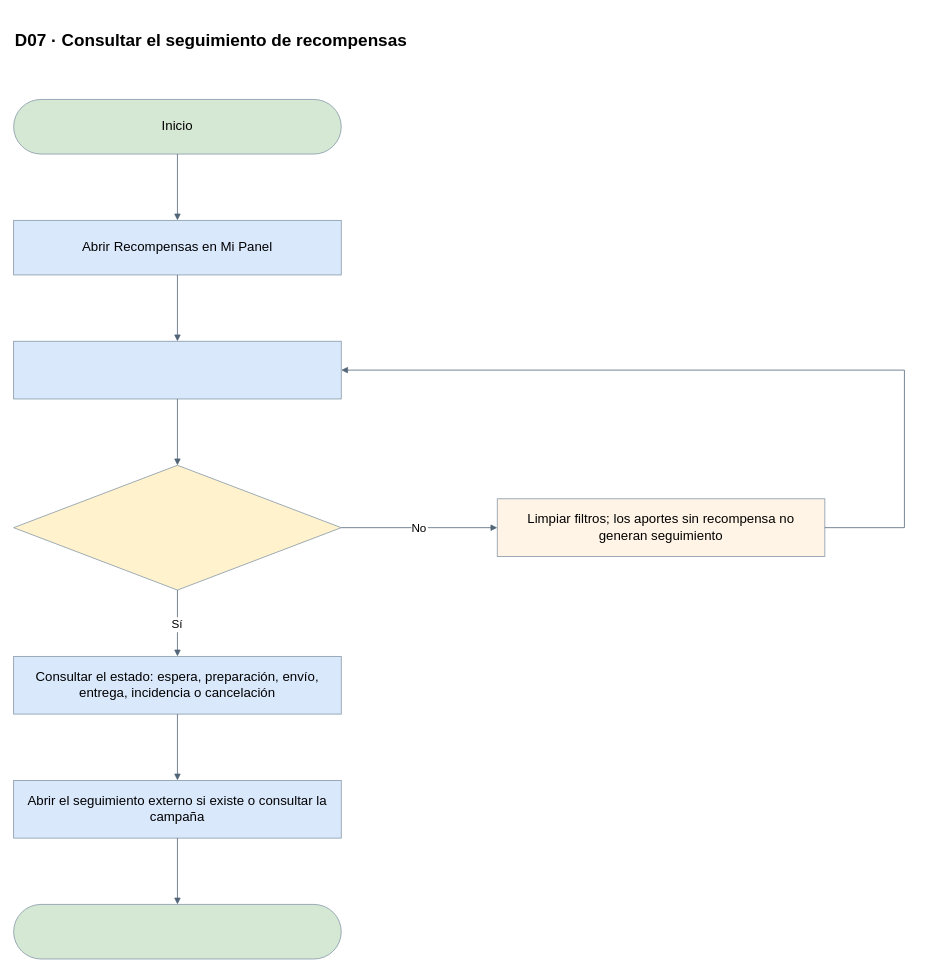
This 948x973 diagram has some shape labels left out. The shapes that lost their labels are listed below. From the top down, each one's box as (x1, y1, x2, y2) in pixels, then its label:
(13, 340, 341, 399): Buscar por recompensa o proyecto y filtrar por estado
(13, 464, 341, 590): ¿Hay recompensas coincidentes?
(13, 904, 341, 959): Fin
